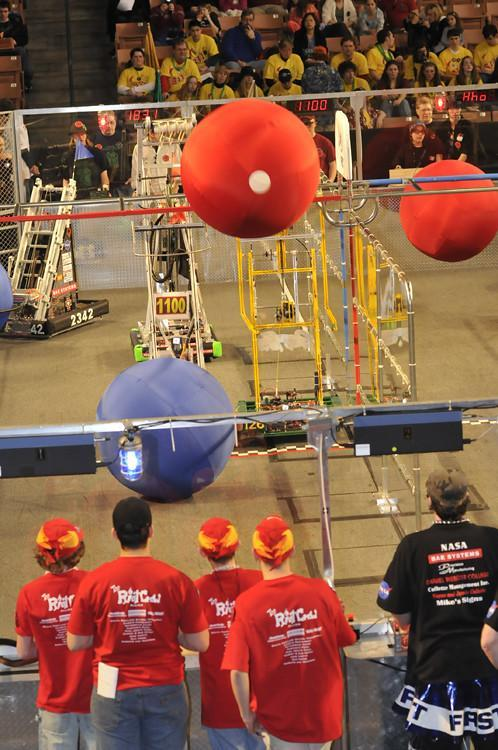robot: (0, 180, 107, 335), (127, 208, 224, 362)
